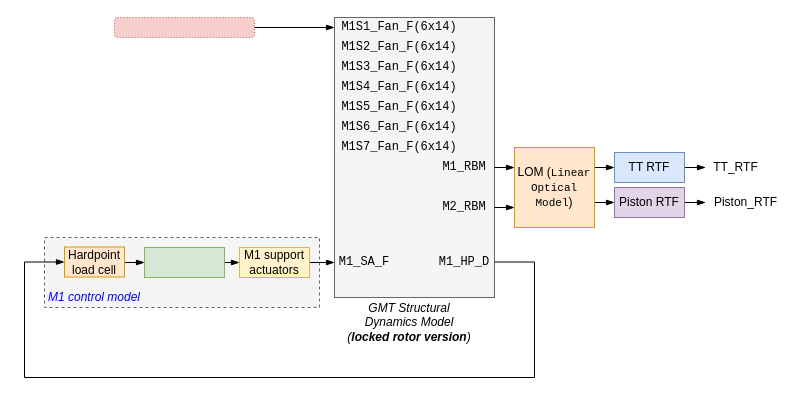
This 803x403 diagram has some shape labels left out. The centre of each missing label's shape, as x and y in pixels:
"M1 S1 fan vibration F&M" belongs at point (184, 27).
"Outer force loop controller" belongs at point (184, 262).
